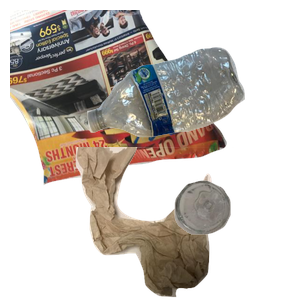glass: (172, 178, 300, 300)
paper: (10, 10, 230, 188)
plastic: (85, 45, 300, 175)
trash: (73, 147, 300, 300)
